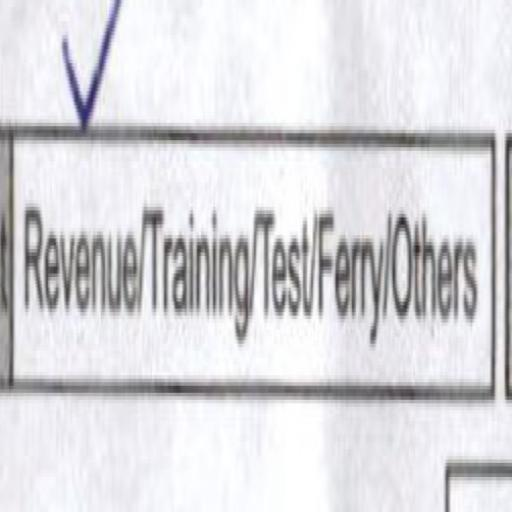check: (11, 0, 140, 418)
